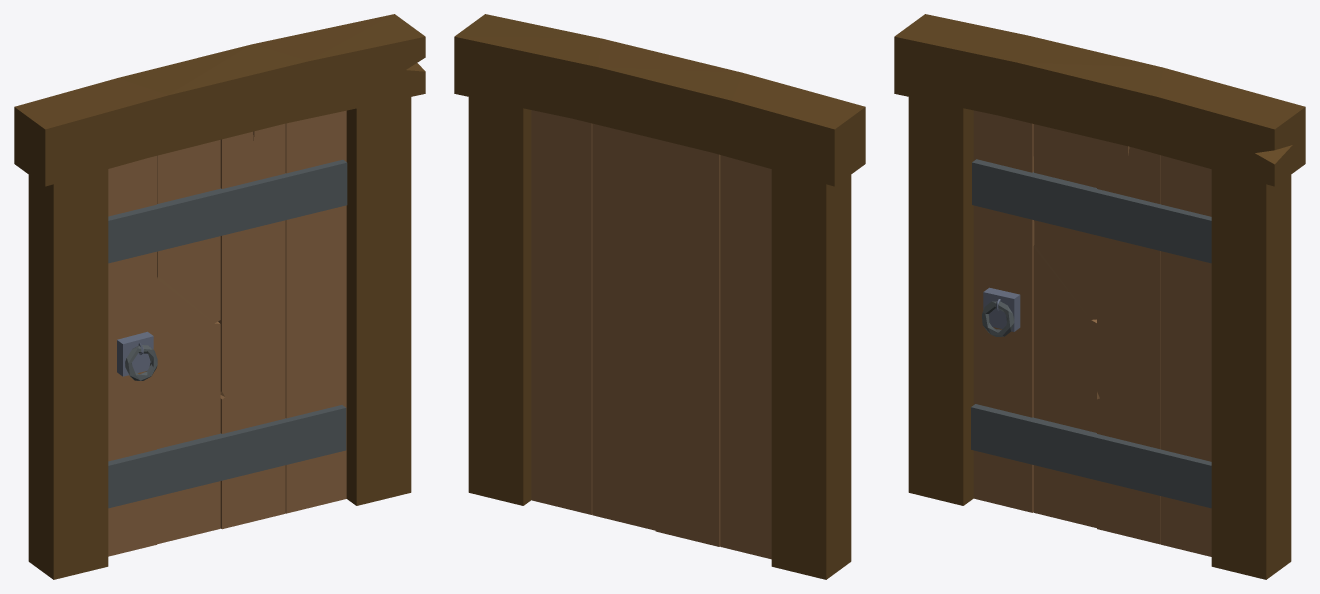
The model's file is Door_02.fbx.
3 views of the same model, side by side, from view 1: azimuth 30°, elevation 25°; view 2: azimuth 150°, elevation 25°; view 3: azimuth 330°, elevation 25° (orthographic).
Visible parts, largest first — view 1: Door_02; view 2: Door_02; view 3: Door_02.
Boxes of the visible parts, <box> form: Door_02: <box>14,14,425,579</box>; Door_02: <box>454,14,865,579</box>; Door_02: <box>894,14,1305,579</box>.
Bounding box in the file's own units: 1.68 × 1.95 × 0.2376.
